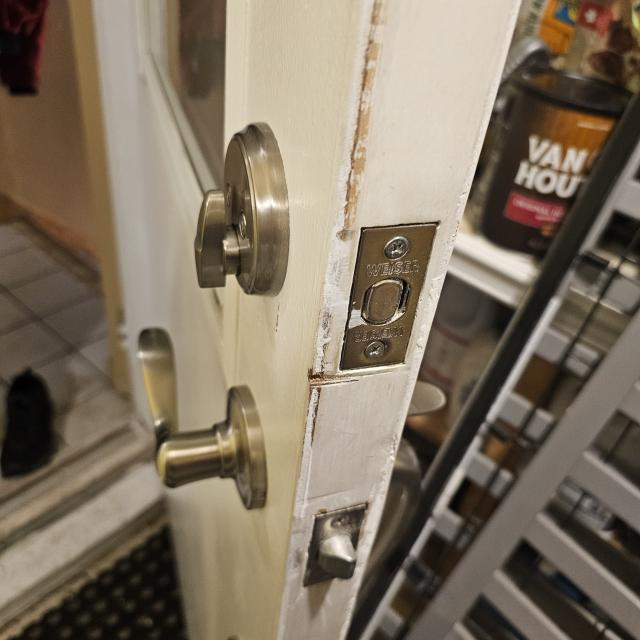door-handle: (138, 328, 268, 509)
